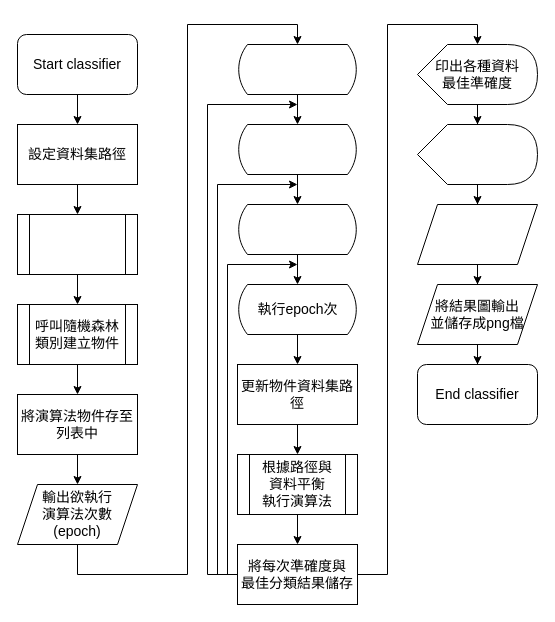
The diagram is 555 pixels wide and 622 high, and some of its shapes have lost their labels. The centre of each missing label's shape, as x and y in pixels:
呼叫KNN類別建立物件: [77,244]
將分類結果 以圖示之: [477,154]
將準確度資料 輸出至文字檔: [477,234]
是否執行資料平衡: [297,69]
選擇演算法: [297,149]
選擇資料集路徑: [297,229]
